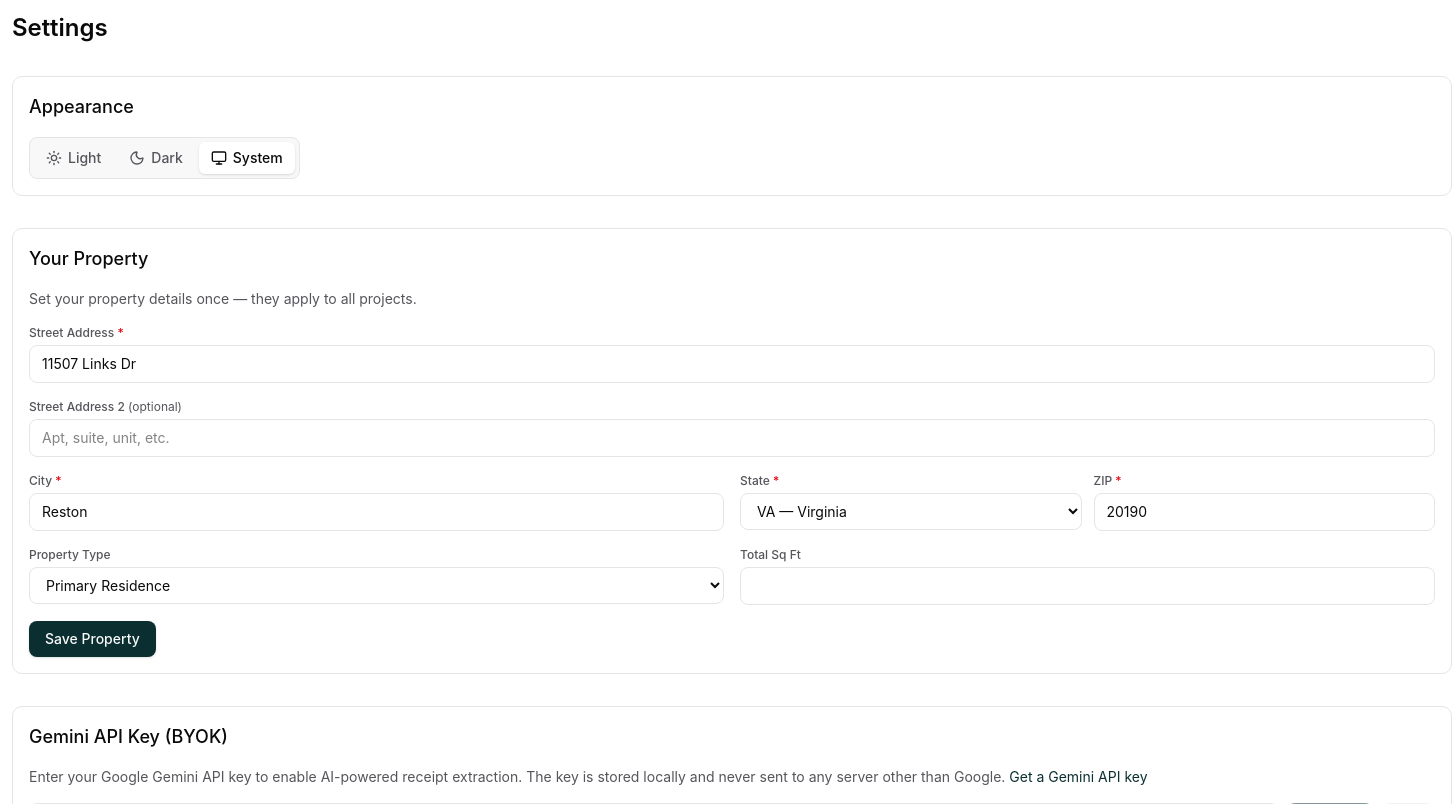
Test: SettingsPage — property form › auto-formats ZIP with hyphen after 5 digits
This screenshot has width=1452, height=804.
Replace the text in the field with id "zip" with "201904530" at [1264, 512], box left=1094, top=493, right=1435, bottom=531
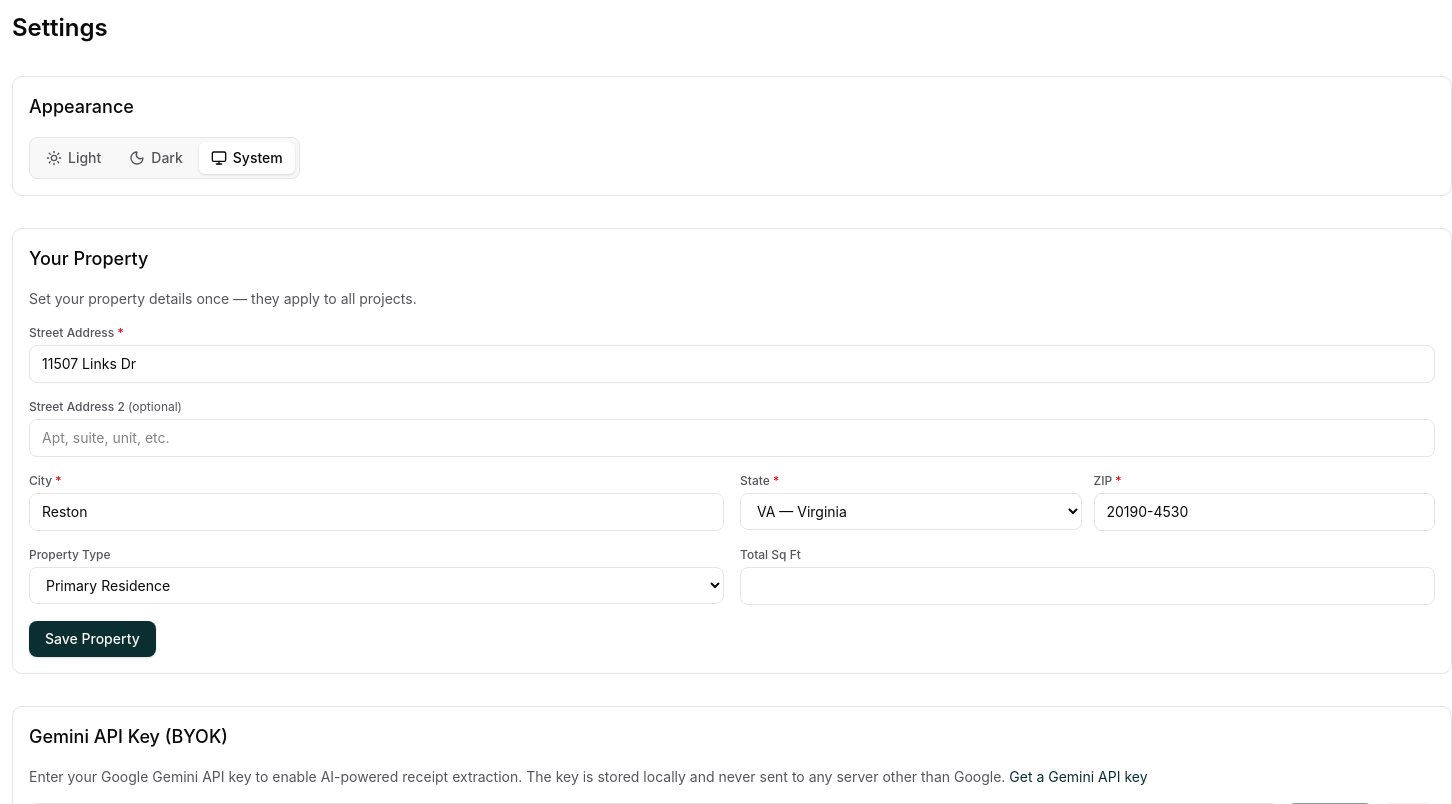
Check: the field with id "zip" holds "20190-4530", box left=1094, top=493, right=1435, bottom=531
